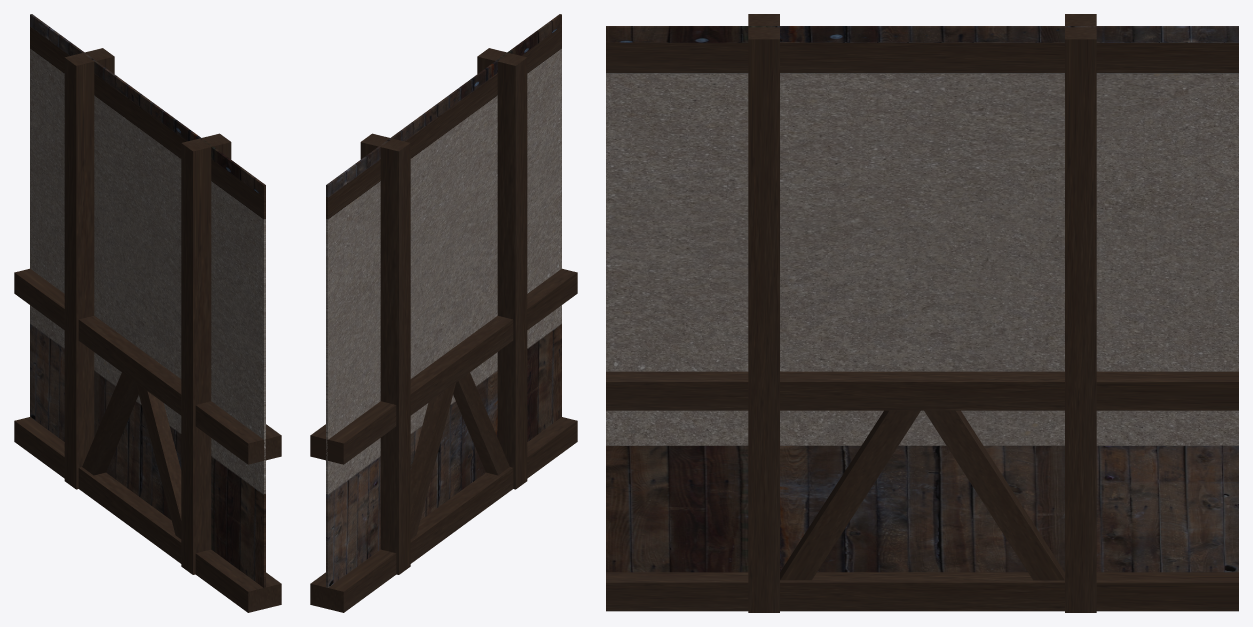
The model's file is OutdoorArchitecture_BasicWall02_NoEdges_BShortt.fbx.
3 views of the same model, side by side, from view 1: azimuth 30°, elevation 25°; view 2: azimuth 150°, elevation 25°; view 3: azimuth 270°, elevation 25° (orthographic). The views are drawn at different scales.
Visible parts, largest first — view 1: OutdoorArchitecture_BasicWall02_NoEdges_BShortt; view 2: OutdoorArchitecture_BasicWall02_NoEdges_BShortt; view 3: OutdoorArchitecture_BasicWall02_NoEdges_BShortt.
Boxes of the visible parts, x1,y1,x2,y2 form: OutdoorArchitecture_BasicWall02_NoEdges_BShortt: [14, 14, 281, 612]; OutdoorArchitecture_BasicWall02_NoEdges_BShortt: [310, 14, 577, 612]; OutdoorArchitecture_BasicWall02_NoEdges_BShortt: [606, 14, 1238, 612].
Bounding box in the file's own units: 28.5 × 300 × 300.
